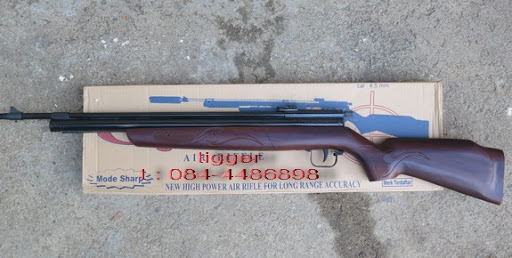gun: (1, 97, 511, 216)
